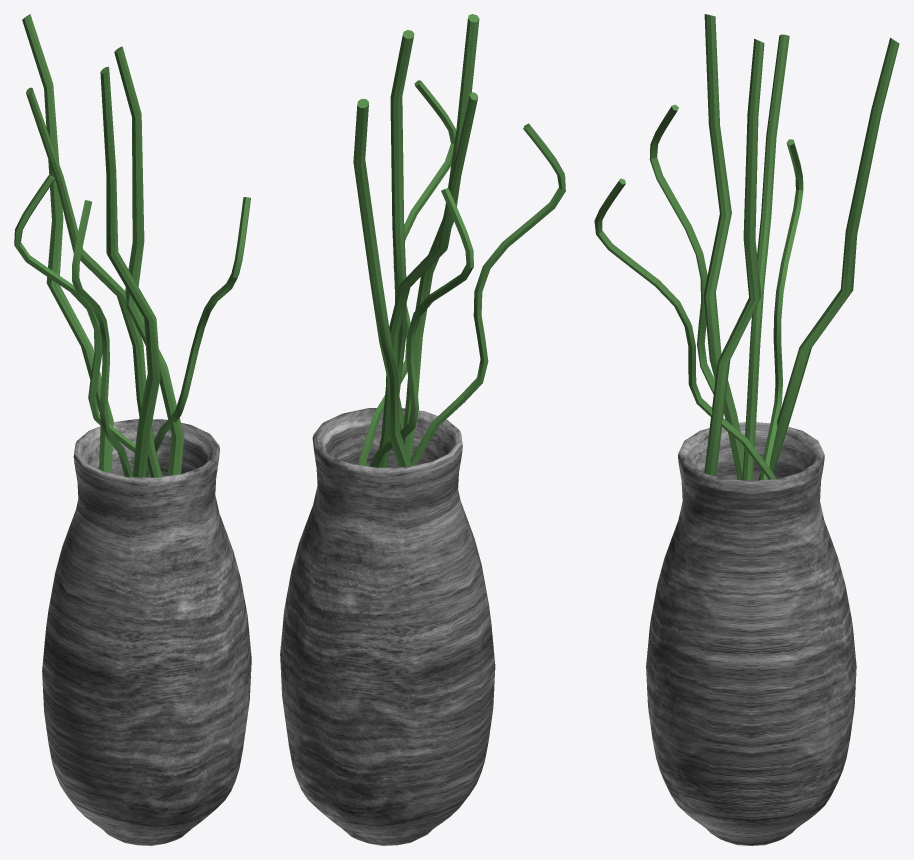
Rendered from Floor-Plant.fbx.
The picture shows the model from 3 angles, left to right: view 1: azimuth 30°, elevation 25°; view 2: azimuth 150°, elevation 25°; view 3: azimuth 270°, elevation 25°; orthographic projection. The views are drawn at different scales.
Visible parts, largest first — view 1: Vase_01, Sticks; view 2: Vase_01, Sticks; view 3: Vase_01, Sticks.
Part boxes in pixels (bbox=[...]): Vase_01: bbox=[42, 419, 251, 845]; Sticks: bbox=[14, 14, 250, 477]; Vase_01: bbox=[280, 408, 495, 845]; Sticks: bbox=[353, 14, 565, 467]; Vase_01: bbox=[646, 422, 856, 845]; Sticks: bbox=[594, 14, 899, 480].
Bounding box in the file's own units: 60.11 × 211 × 74.02.
2 materials, 2 textured.
